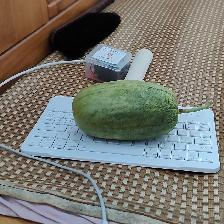gua: (60, 90, 181, 131)
